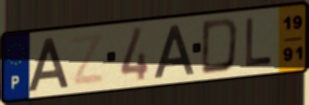4: (119, 24, 152, 85)
A: (152, 23, 197, 80), (26, 36, 70, 93)
D: (199, 16, 241, 76)
L: (244, 16, 274, 70)
Z: (68, 31, 107, 89)
